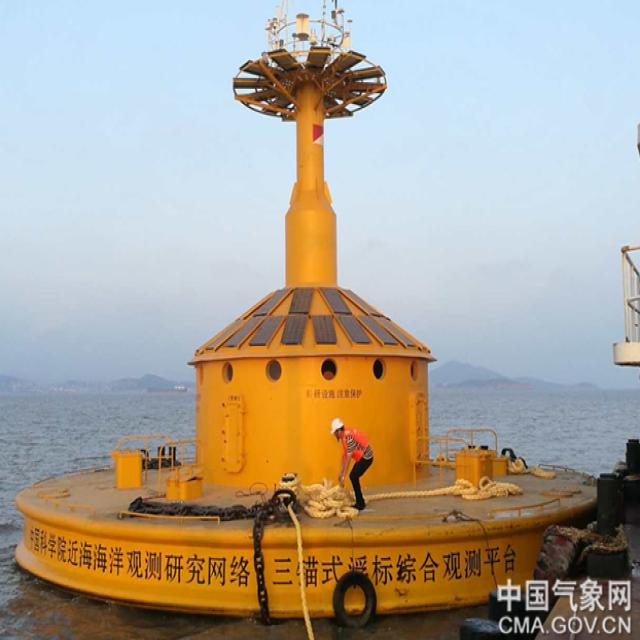buoy: (21, 13, 587, 608)
